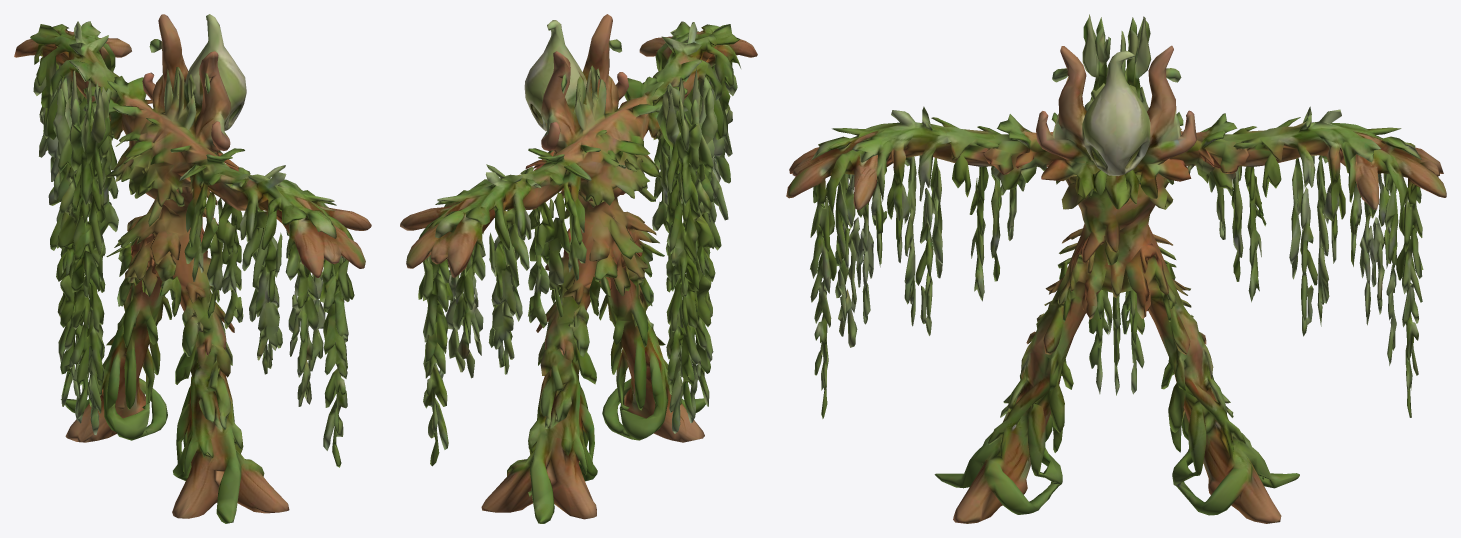
Rendered from n4_lianarch.25348a68.glb.
3 renders of one model, left to right at view 1: azimuth 30°, elevation 25°; view 2: azimuth 150°, elevation 25°; view 3: azimuth 270°, elevation 25°, orthographic. The views are drawn at different scales.
Visible parts, largest first — view 1: tripo_node_a4ef1a55-6047-4951-be4f-98c28f54fd12; view 2: tripo_node_a4ef1a55-6047-4951-be4f-98c28f54fd12; view 3: tripo_node_a4ef1a55-6047-4951-be4f-98c28f54fd12.
Part boxes in pixels (<box>): tripo_node_a4ef1a55-6047-4951-be4f-98c28f54fd12: <box>14,14,371,523</box>; tripo_node_a4ef1a55-6047-4951-be4f-98c28f54fd12: <box>400,14,757,523</box>; tripo_node_a4ef1a55-6047-4951-be4f-98c28f54fd12: <box>786,14,1446,523</box>.
Bounding box in the file's own units: 0.3649 × 0.7869 × 0.9983.
Materials: 1 (1 with a texture image).
